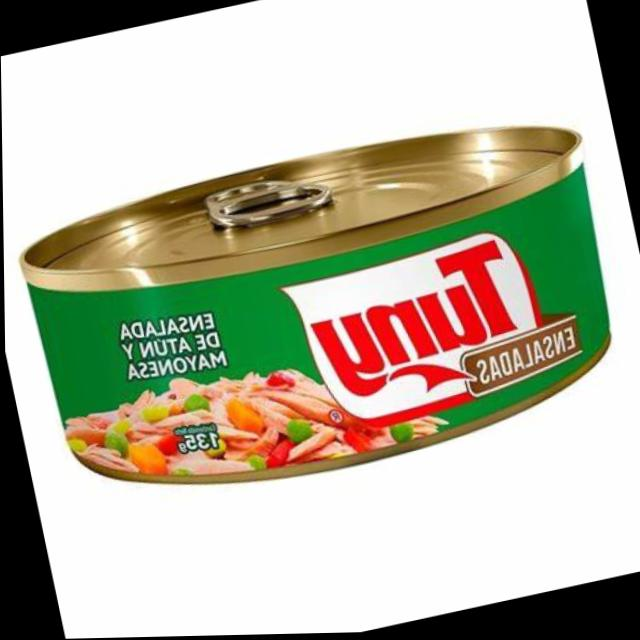Lata: (2, 91, 640, 540)
